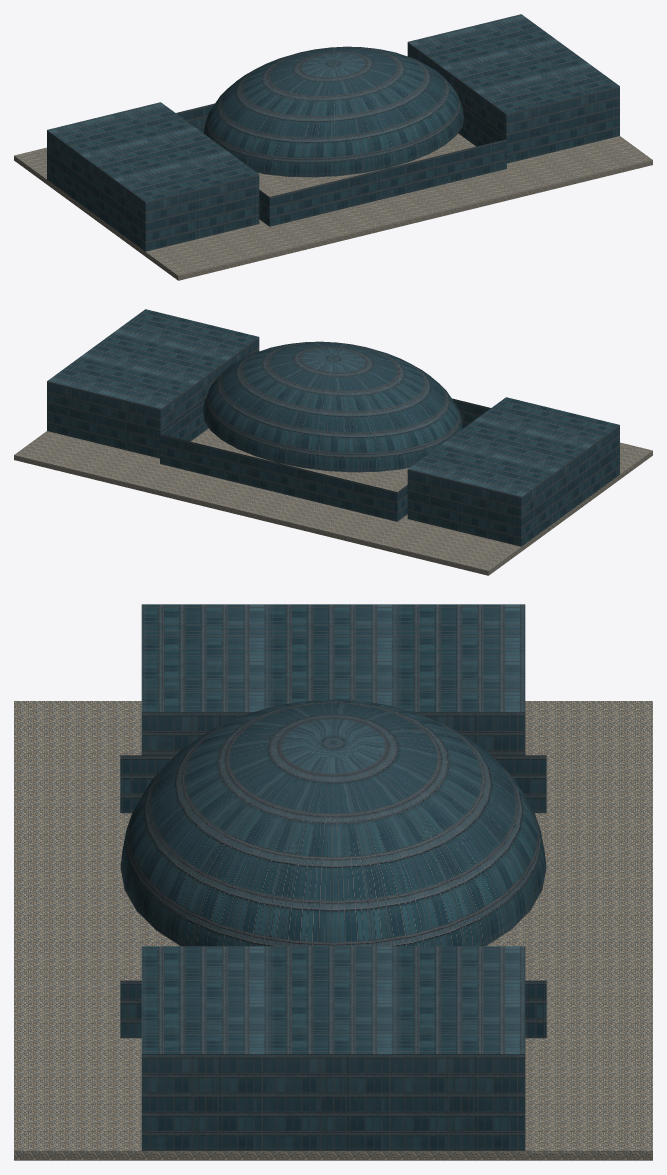
The model's file is conservatory_lod0.gltf.
3 renders of one model, top to bottom at view 1: azimuth 30°, elevation 25°; view 2: azimuth 150°, elevation 25°; view 3: azimuth 270°, elevation 25°, orthographic. The views are drawn at different scales.
Parts seen in each view (by area): view 1: conservatory_dome, conservatory_wing0, conservatory_base, conservatory_wing1, conservatory_drum; view 2: conservatory_dome, conservatory_wing0, conservatory_base, conservatory_wing1, conservatory_drum; view 3: conservatory_base, conservatory_dome, conservatory_wing1, conservatory_wing0, conservatory_drum.
Part boxes in pixels (bbox=[...]): conservatory_dome: bbox=[203, 46, 463, 177]; conservatory_wing0: bbox=[47, 102, 259, 251]; conservatory_base: bbox=[14, 133, 652, 280]; conservatory_wing1: bbox=[407, 14, 619, 163]; conservatory_drum: bbox=[176, 103, 506, 226]; conservatory_dome: bbox=[203, 341, 463, 472]; conservatory_wing0: bbox=[407, 397, 619, 546]; conservatory_base: bbox=[14, 428, 652, 575]; conservatory_wing1: bbox=[47, 309, 259, 458]; conservatory_drum: bbox=[160, 398, 490, 521]; conservatory_base: bbox=[14, 701, 652, 1160]; conservatory_dome: bbox=[120, 699, 546, 946]; conservatory_wing1: bbox=[141, 946, 525, 1150]; conservatory_wing0: bbox=[141, 604, 525, 755]; conservatory_drum: bbox=[120, 755, 546, 1038].
Bounding box in the file's own units: 100 × 20 × 60.
